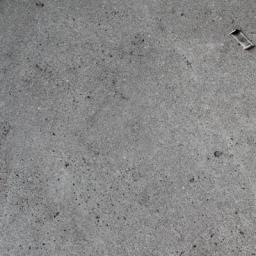FOD: (229, 26, 256, 53)
